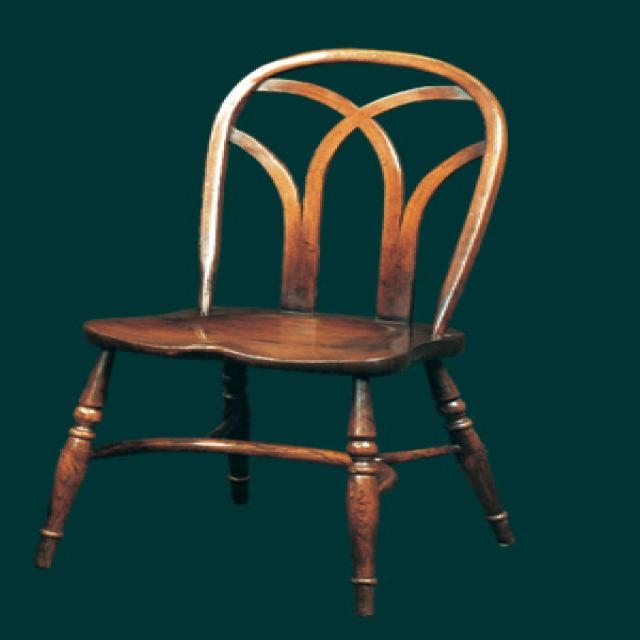chair: (32, 46, 516, 616)
